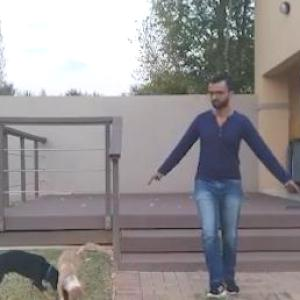land: (148, 80, 299, 300)
